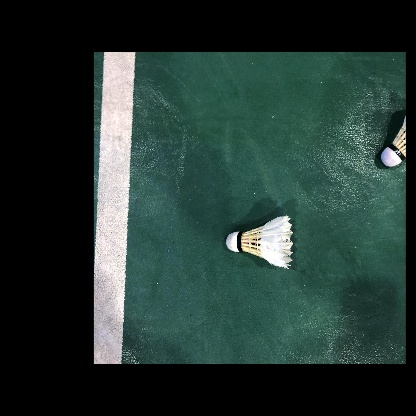ball_single: (226, 216, 293, 269), (381, 115, 406, 167)
